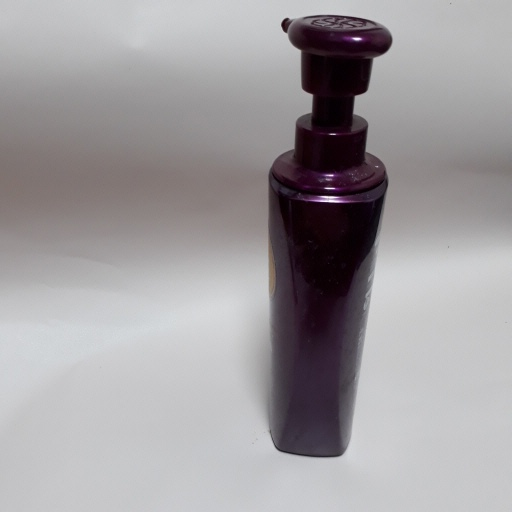Plastic_3: (264, 14, 393, 460)
